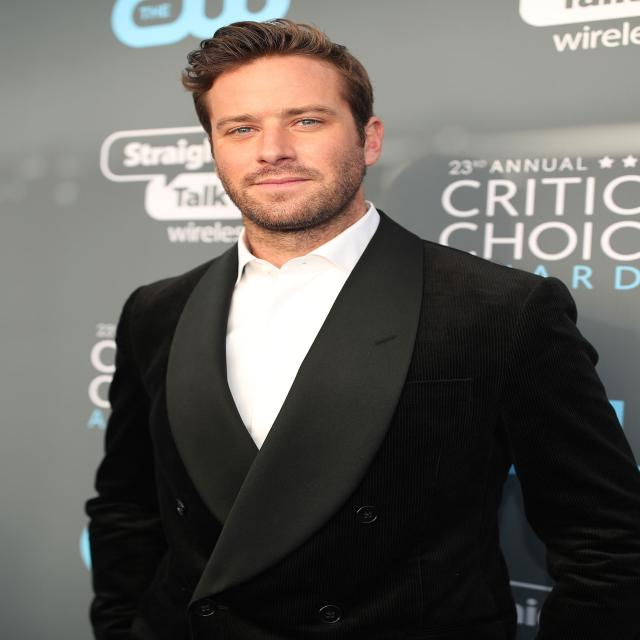human: (87, 18, 640, 639)
